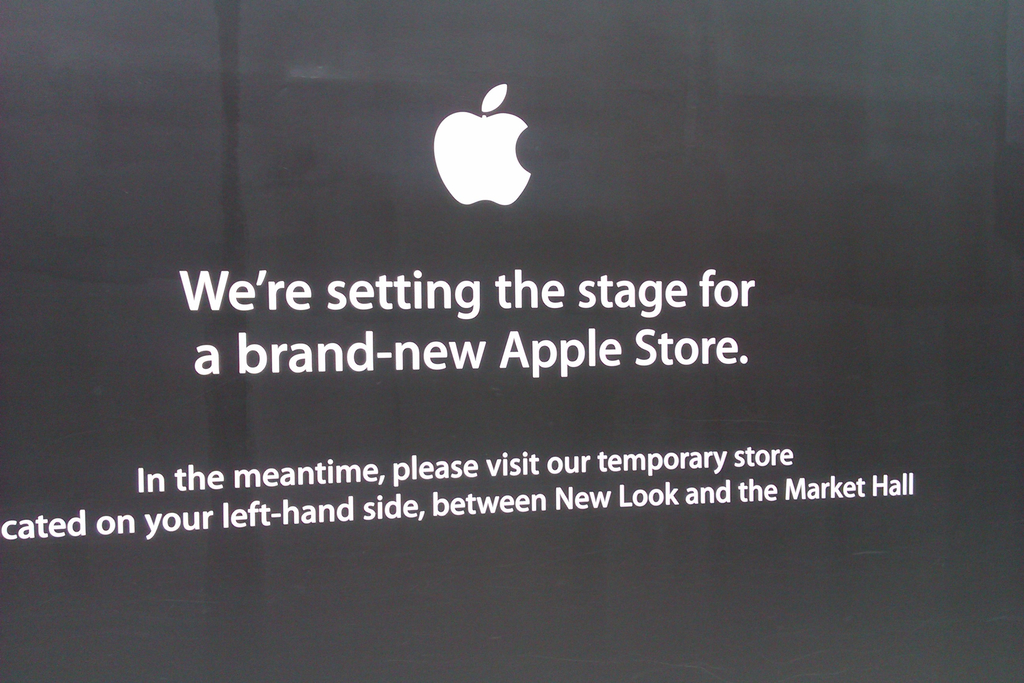Apple: (433, 82, 529, 204)
